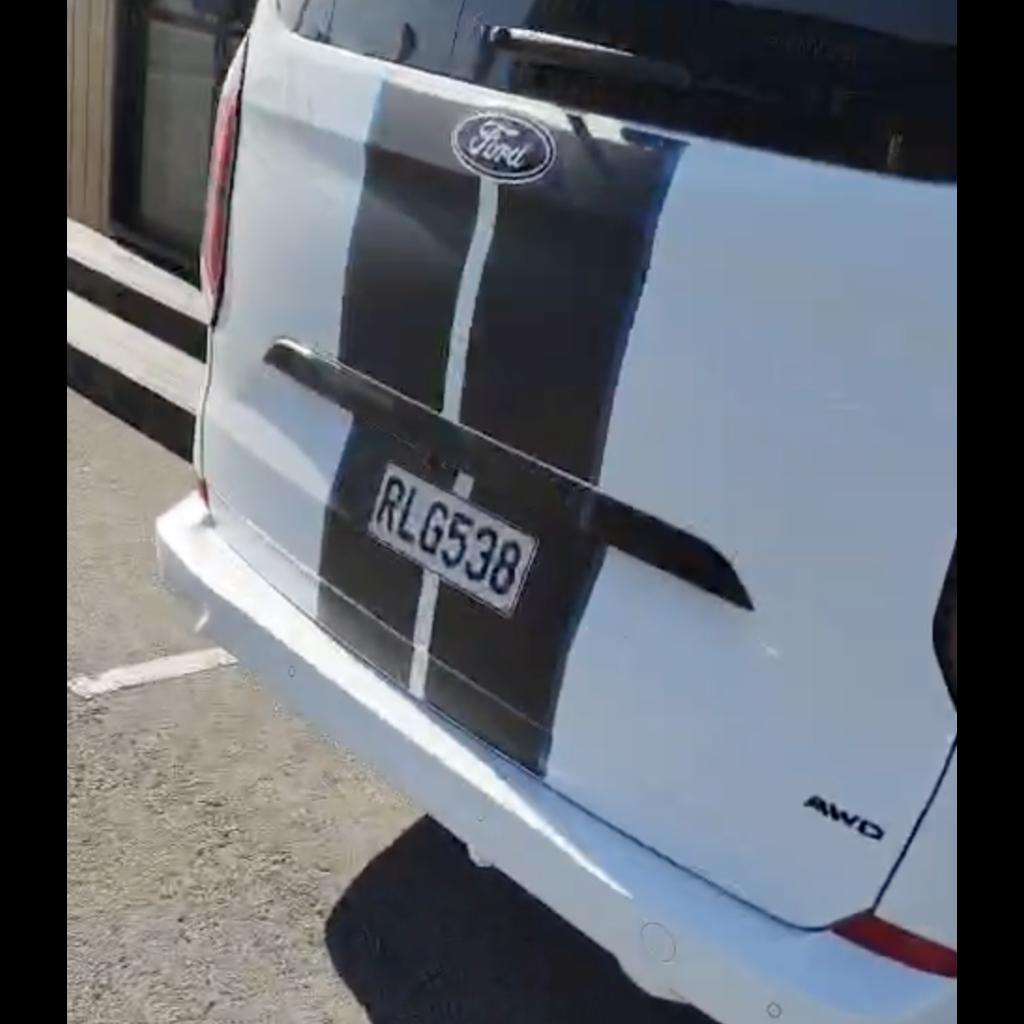Number-Plates: (342, 445, 566, 645)
